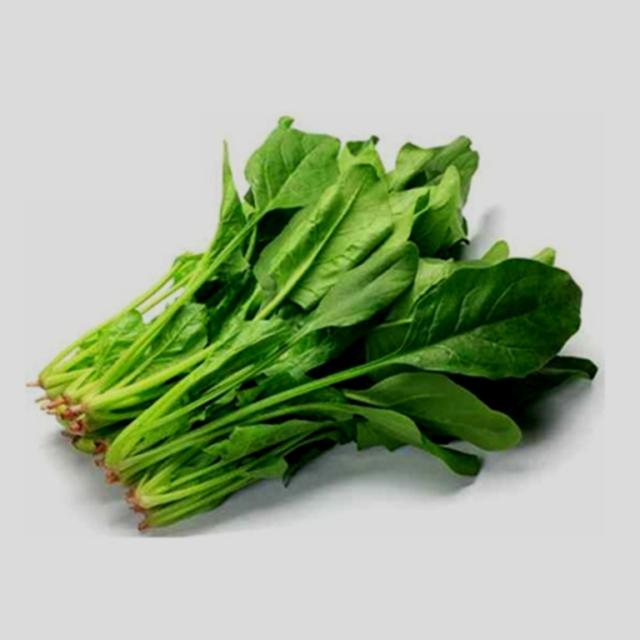Spinach: (12, 86, 584, 554)
